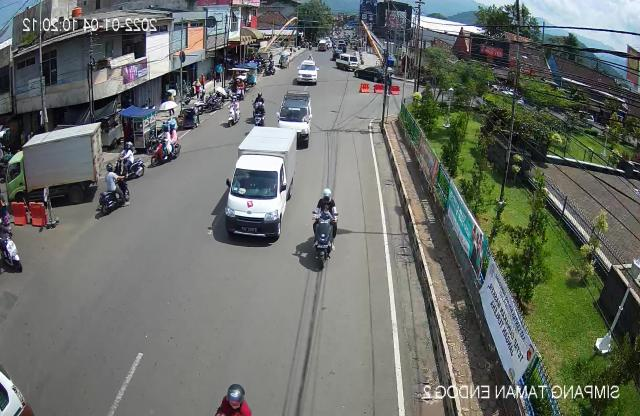Mobil: (275, 88, 313, 146), (289, 61, 320, 88)
Motor: (307, 187, 342, 272), (92, 166, 134, 221), (150, 118, 182, 173), (112, 137, 146, 181), (220, 96, 244, 129), (248, 90, 268, 122)
Truk: (2, 119, 101, 212), (221, 126, 299, 244)
